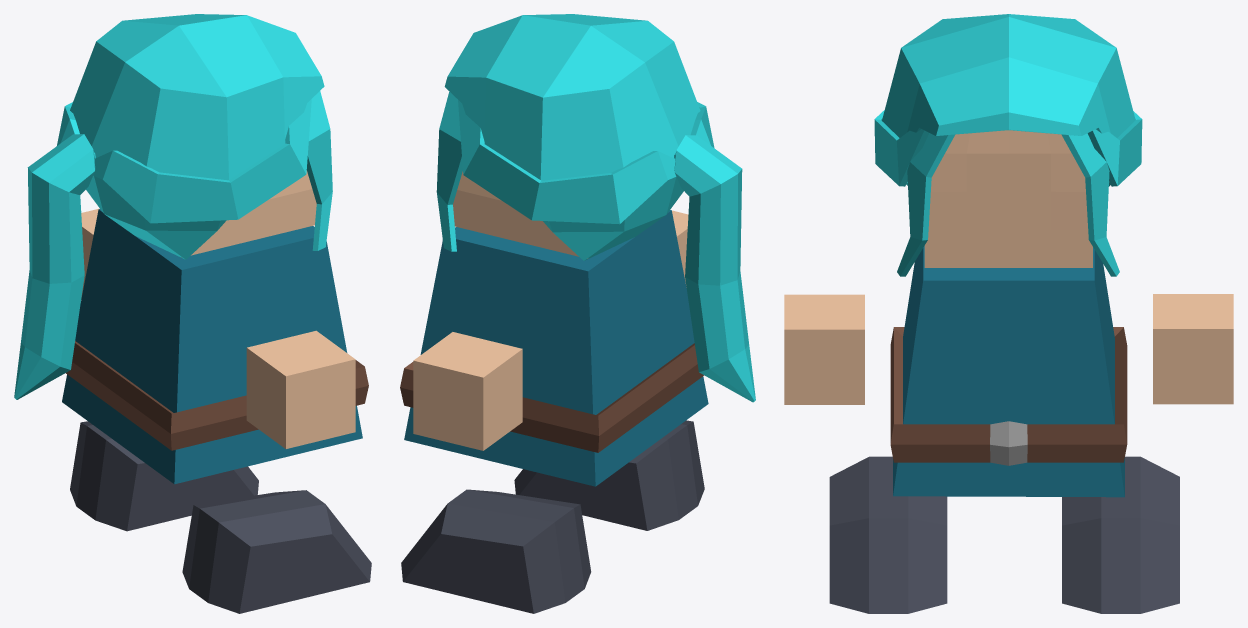
File: Player_Rigged_Unty.fbx
3 renders of one model, left to right at view 1: azimuth 30°, elevation 25°; view 2: azimuth 150°, elevation 25°; view 3: azimuth 270°, elevation 25°, orthographic. The views are drawn at different scales.
Parts seen in each view (by area): view 1: Head, Body, RightFoot, RightHand, LeftFoot, LeftHand; view 2: Head, Body, LeftFoot, LeftHand, RightFoot, RightHand; view 3: Head, Body, RightFoot, LeftFoot, LeftHand, RightHand.
Part boxes in pixels (box(x1,y1,x2,y2)): Head: box(14, 14, 332, 399); Body: box(62, 209, 368, 484); RightFoot: box(182, 490, 371, 613); RightHand: box(246, 330, 355, 448); LeftFoot: box(70, 421, 258, 531); LeftHand: box(81, 208, 99, 298); Head: box(436, 14, 755, 402); Body: box(400, 210, 708, 486); LeftFoot: box(401, 489, 591, 613); LeftHand: box(413, 332, 522, 450); RightFoot: box(514, 420, 704, 530); RightHand: box(672, 210, 688, 287); Head: box(874, 14, 1142, 276); Body: box(890, 246, 1127, 497); RightFoot: box(829, 456, 947, 613); LeftFoot: box(1062, 456, 1179, 613); LeftHand: box(1153, 294, 1233, 404); RightHand: box(784, 294, 864, 404).
Size of the model in its own units: 419 by 688 by 524.
